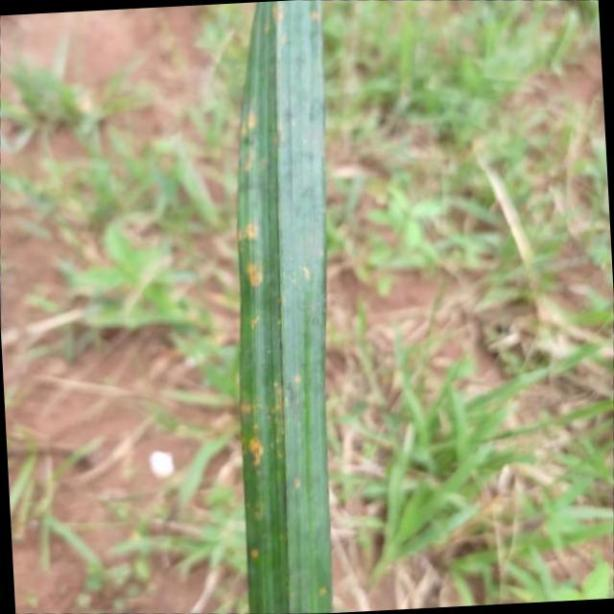Kalium: (234, 0, 330, 614)
